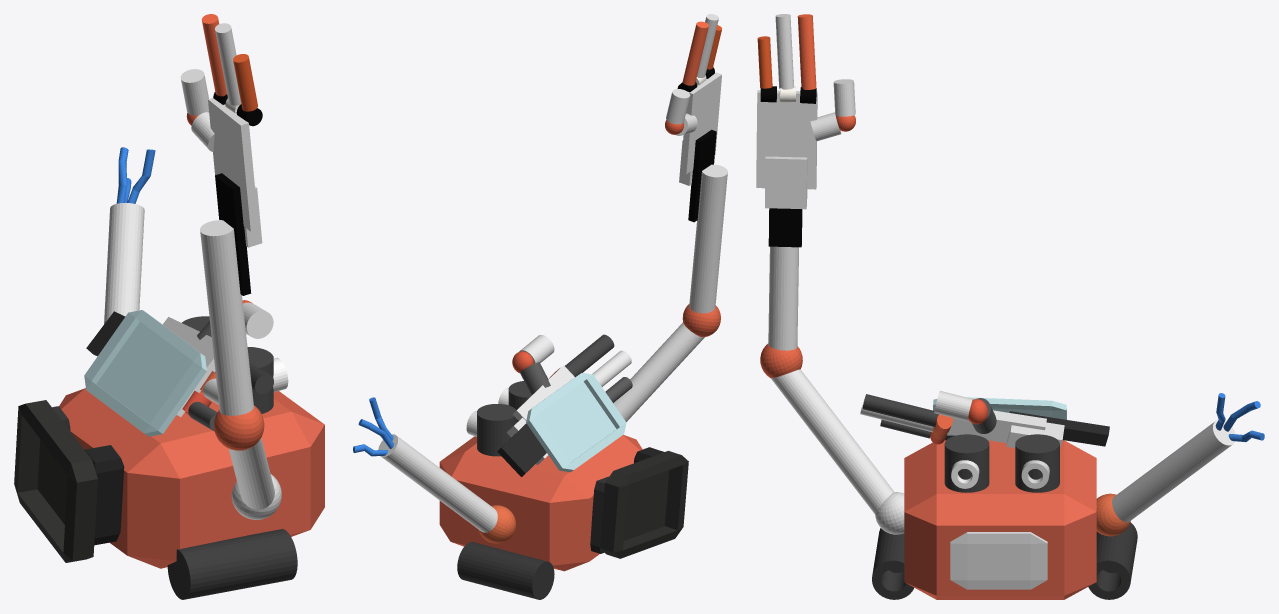
File: minirobo_proper size fix.fbx
3 views of the same model, side by side, from view 1: azimuth 30°, elevation 25°; view 2: azimuth 150°, elevation 25°; view 3: azimuth 270°, elevation 25° (orthographic). The views are drawn at different scales.
Visible parts, largest first — view 1: Cube, Cube.008, Cube.001, Cylinder.012, Cylinder.024, Cylinder.022, Cube.002, Cube.010, Cylinder.013, Cube.003, Sphere.002, Cylinder.010 (+13 smaller); view 2: Cube, Cube.008, Cube.001, Cylinder.012, Cylinder.023, Cylinder.022, Cylinder.013, Cube.002, Cylinder.001, Cube.006, Cube.003, Cube.007 (+11 smaller); view 3: Cube, Cube.011, Cylinder.013, Cylinder.022, Cube.002, Cylinder.012, Cylinder.023, Cube.004, Cylinder.024, Cylinder, Cylinder.001, Cube.007 (+14 smaller).
Part boxes in pixels (x1=…): Cube: x1=59, y1=388, x2=324, y2=568; Cube.008: x1=14, y1=400, x2=97, y2=562; Cube.001: x1=84, y1=310, x2=206, y2=436; Cylinder.012: x1=200, y1=220, x2=253, y2=415; Cylinder.024: x1=167, y1=529, x2=297, y2=599; Cylinder.022: x1=104, y1=203, x2=144, y2=323; Cube.002: x1=208, y1=98, x2=258, y2=231; Cube.010: x1=85, y1=445, x2=124, y2=545; Cylinder.013: x1=229, y1=438, x2=274, y2=509; Cube.003: x1=215, y1=173, x2=251, y2=295; Sphere.002: x1=214, y1=405, x2=264, y2=450; Cylinder.010: x1=215, y1=23, x2=241, y2=105; Cube: x1=439, y1=435, x2=642, y2=571; Cube.008: x1=599, y1=450, x2=688, y2=558; Cube.001: x1=526, y1=373, x2=626, y2=472; Cylinder.012: x1=689, y1=164, x2=727, y2=313; Cylinder.023: x1=457, y1=542, x2=554, y2=599; Cylinder.022: x1=378, y1=434, x2=497, y2=532; Cylinder.013: x1=613, y1=322, x2=704, y2=421; Cube.002: x1=680, y1=72, x2=721, y2=174; Cylinder.001: x1=477, y1=404, x2=516, y2=456; Cube.006: x1=497, y1=423, x2=546, y2=476; Cube.003: x1=688, y1=129, x2=716, y2=222; Cube.007: x1=512, y1=365, x2=574, y2=420; Cube: x1=904, y1=440, x2=1096, y2=599; Cube.011: x1=950, y1=532, x2=1047, y2=589; Cylinder.013: x1=771, y1=369, x2=894, y2=514; Cylinder.022: x1=1112, y1=419, x2=1235, y2=522; Cube.002: x1=756, y1=90, x2=817, y2=189; Cylinder.012: x1=768, y1=246, x2=798, y2=350; Cylinder.023: x1=1088, y1=522, x2=1137, y2=599; Cube.004: x1=765, y1=156, x2=807, y2=209; Cylinder.024: x1=872, y1=528, x2=913, y2=599; Cylinder: x1=944, y1=434, x2=989, y2=492; Cylinder.001: x1=1015, y1=434, x2=1059, y2=492; Cube.007: x1=947, y1=410, x2=1046, y2=442.
Size of the model in its own units: 42.64 by 99.84 by 86.39.
